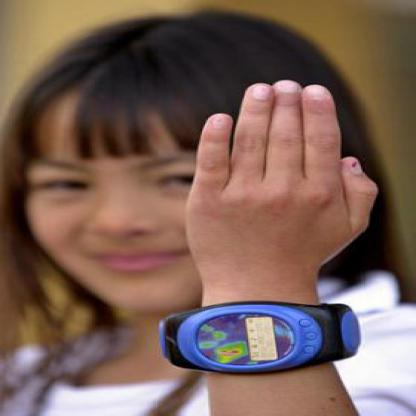face: (16, 30, 305, 318)
